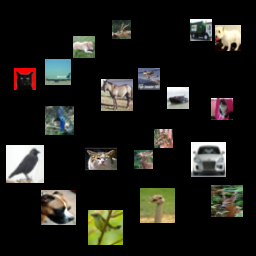airplane: (45, 59, 71, 85), (138, 68, 160, 90)
automobile: (191, 142, 226, 177)
bird: (6, 145, 44, 183), (140, 188, 175, 223), (88, 210, 123, 245), (45, 106, 74, 135)
cat: (85, 143, 117, 175), (14, 68, 36, 90), (211, 98, 233, 120)
deer: (211, 185, 243, 217), (134, 150, 153, 169), (112, 20, 131, 39)
dog: (41, 190, 76, 225), (215, 25, 241, 51), (73, 36, 95, 58)
frog: (154, 129, 173, 148)
ship: (167, 87, 189, 109)
